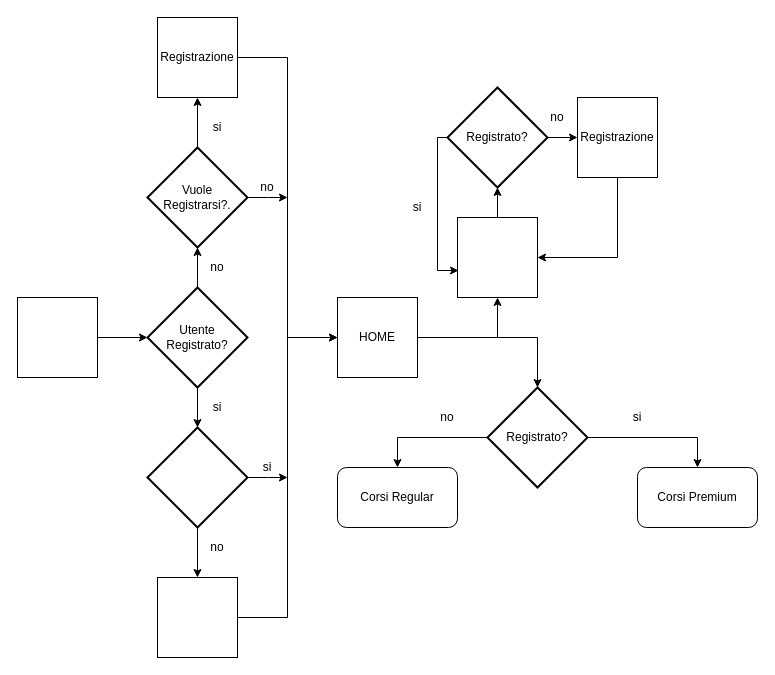
The diagram is 775 pixels wide and 675 high, and some of its shapes have lost their labels. Here are the shapes that lost their labels. From the top down, the centre of each, then its label:
At point (497, 257): "PROFILO".
At point (57, 337): "Splash Act.".
At point (197, 477): "Loggato?".
At point (197, 617): "LOGIN".
